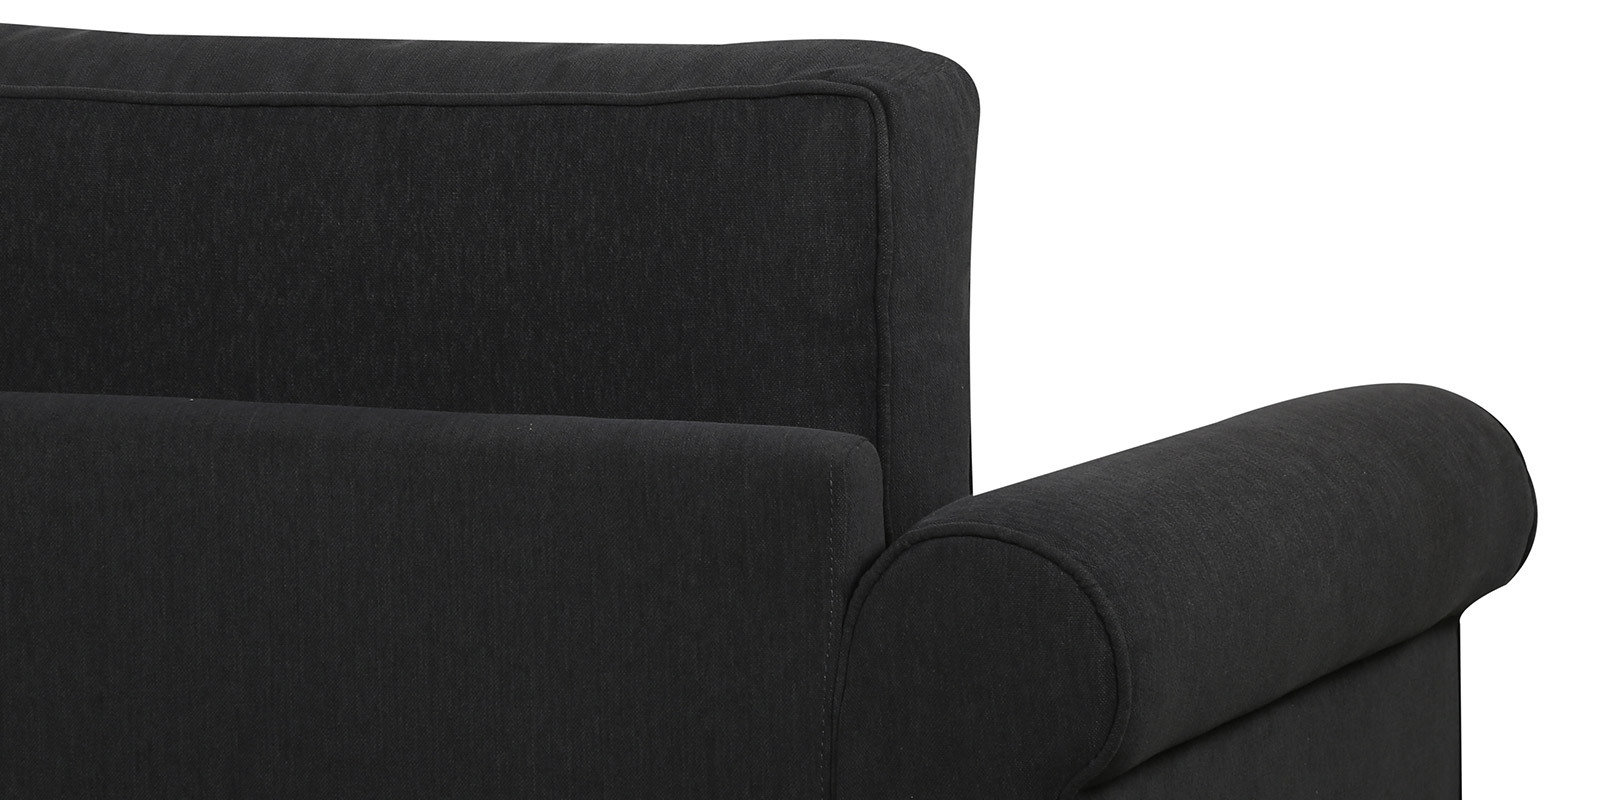Fuego Three Seater Sofa in Charcoal Grey Colour by CasaCraft: (7, 18, 1546, 800)
